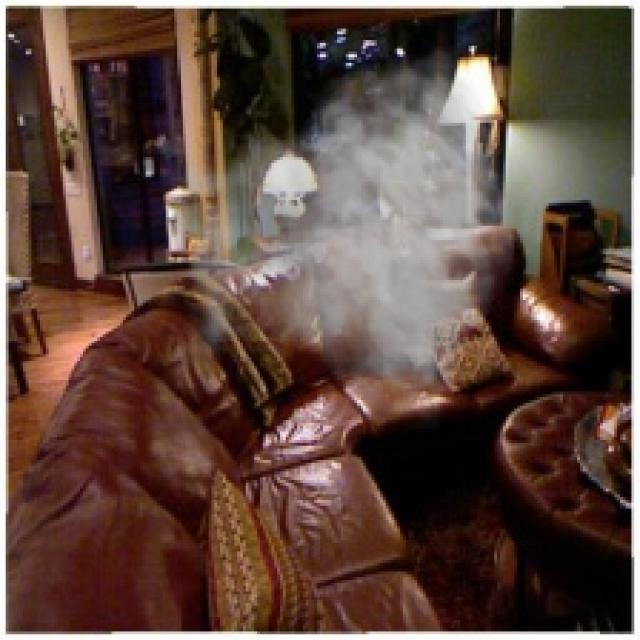Smoke: (154, 46, 517, 428)
